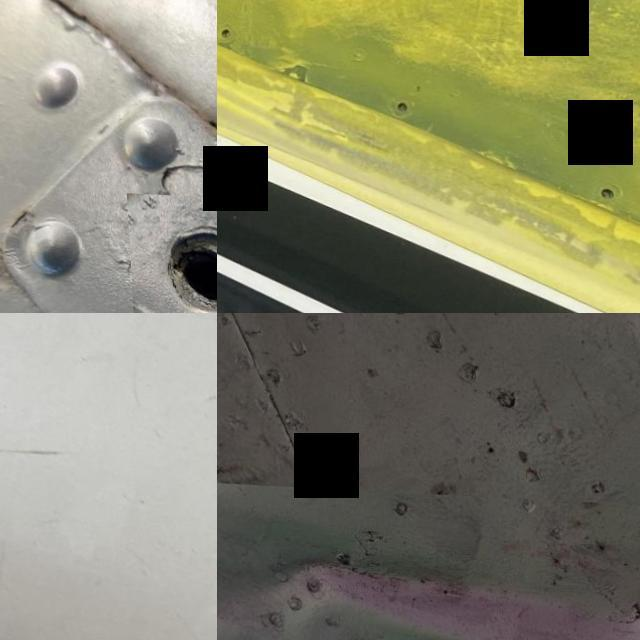Crack: (348, 556, 414, 612)
Dent: (217, 481, 640, 640)
Missing_Fastener: (123, 190, 217, 313), (596, 182, 612, 196), (394, 98, 406, 109), (218, 26, 230, 36)
